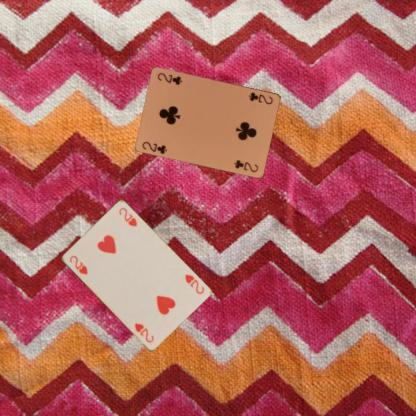2c: (246, 90, 275, 106), (140, 139, 168, 155)
2h: (182, 271, 205, 296), (66, 253, 88, 276)
